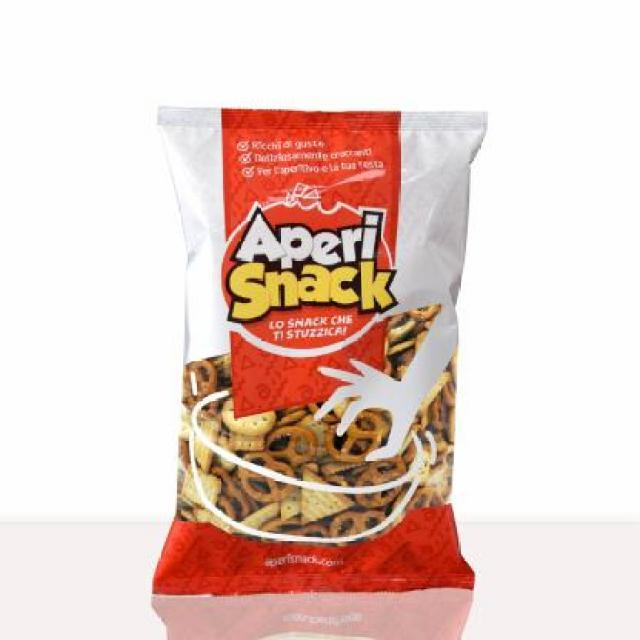Salatini: (147, 97, 491, 603)
